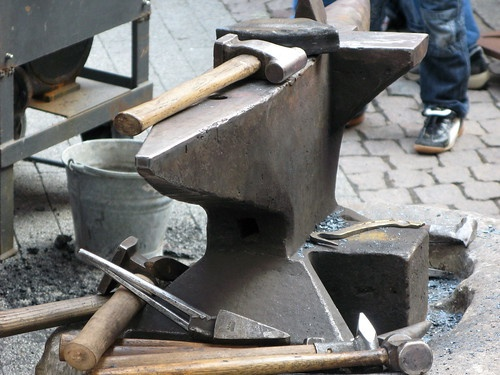hammer: (114, 31, 314, 136), (99, 329, 435, 375)
